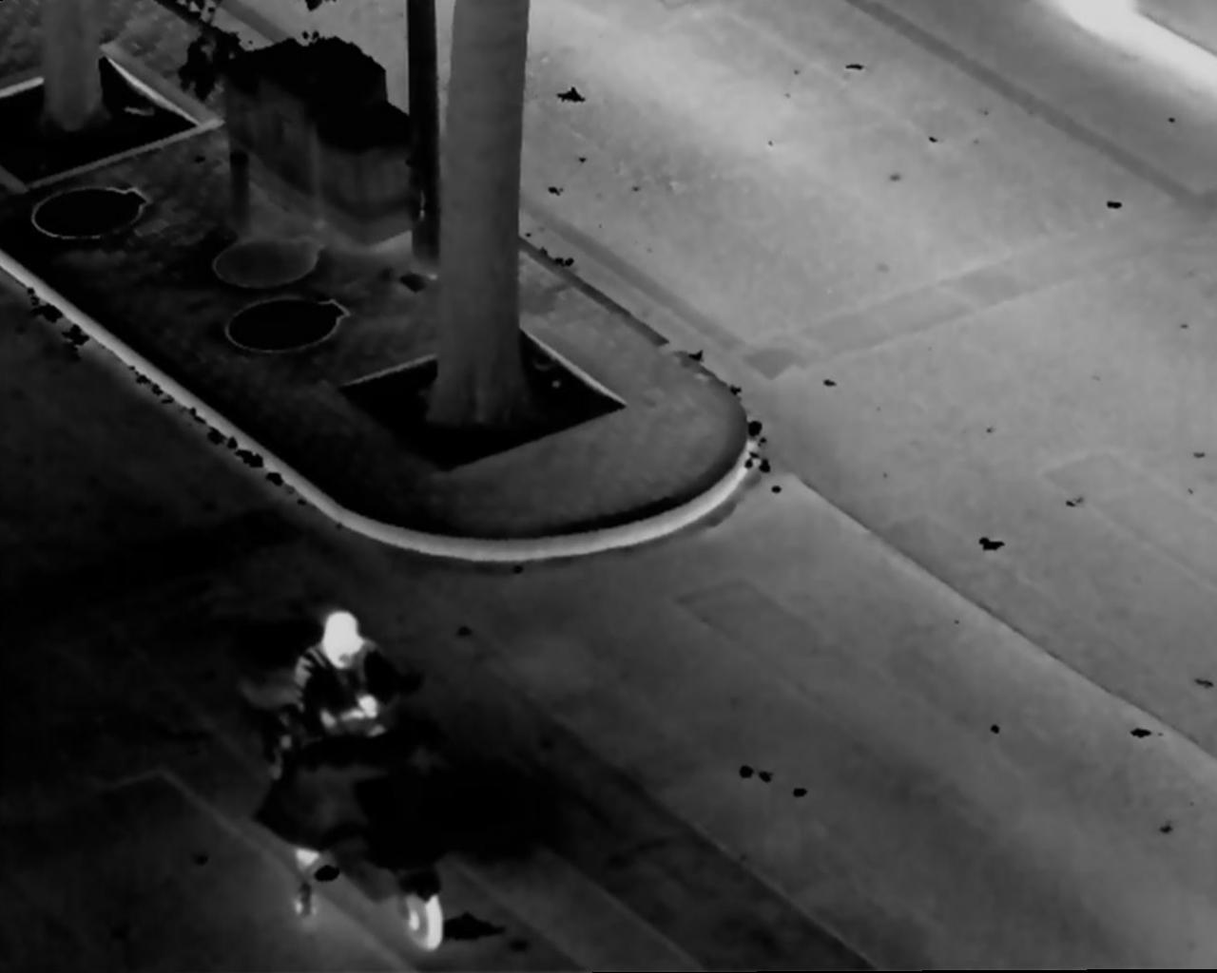person: (293, 605, 414, 933)
